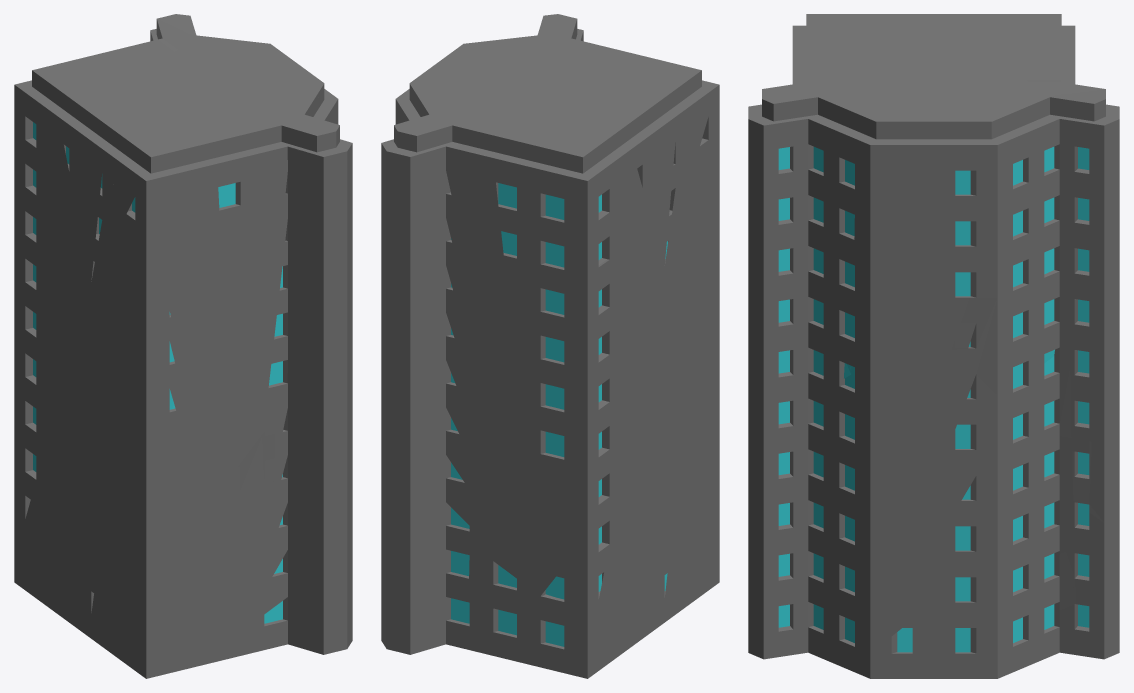
Rendered from LLShatteredCity7.fbx.
3 renders of one model, left to right at view 1: azimuth 30°, elevation 25°; view 2: azimuth 150°, elevation 25°; view 3: azimuth 270°, elevation 25°, orthographic. The views are drawn at different scales.
Visible parts, largest first — view 1: Cube.007, Cube.007_cell.057, Cube.007_cell.051, Cube.007_cell.054, Cube.007_cell.001, Cube.007_cell.039, Cube.007_cell.009, Cube.007_cell.031, Cube.007_cell.025, Cube.007_cell.058, Cube.007_cell.050, Cube.007_cell.087 (+24 smaller); view 2: Cube.007, Cube.007_cell.054, Cube.007_cell.039, Cube.007_cell.051, Cube.007_cell.016, Cube.007_cell.085, Cube.007_cell.058, Cube.007_cell.009, Cube.007_cell.013, Cube.007_cell.041, Cube.007_cell.022, Cube.007_cell.029 (+4 smaller); view 3: Cube.007, Cube.007_cell.082, Cube.007_cell.027, Cube.007_cell.084, Cube.007_cell.061, Cube.007_cell.036, Cube.007_cell.026, Cube.007_cell.099, Cube.007_cell.009, Cube.007_cell.019, Cube.007_cell.046, Cube.007_cell.089 (+27 smaller).
Boxes of the visible parts, box(x1,y1,x2,y2) form: Cube.007: box(14, 19, 352, 668); Cube.007_cell.057: box(198, 554, 347, 665); Cube.007_cell.051: box(88, 539, 191, 678); Cube.007_cell.054: box(64, 102, 121, 265); Cube.007_cell.001: box(147, 533, 252, 667); Cube.007_cell.039: box(14, 84, 97, 209); Cube.007_cell.009: box(20, 39, 182, 95); Cube.007_cell.031: box(205, 135, 271, 248); Cube.007_cell.025: box(246, 141, 352, 224); Cube.007_cell.058: box(100, 249, 200, 349); Cube.007_cell.050: box(205, 488, 281, 573); Cube.007_cell.087: box(146, 417, 264, 494); Cube.007: box(381, 14, 719, 678); Cube.007_cell.054: box(626, 98, 695, 257); Cube.007_cell.039: box(540, 120, 636, 274); Cube.007_cell.051: box(661, 481, 719, 614); Cube.007_cell.016: box(381, 113, 473, 217); Cube.007_cell.085: box(613, 489, 672, 576); Cube.007_cell.058: box(667, 187, 719, 285); Cube.007_cell.009: box(456, 91, 601, 221); Cube.007_cell.013: box(410, 301, 454, 378); Cube.007_cell.041: box(410, 218, 447, 301); Cube.007_cell.022: box(530, 552, 603, 618); Cube.007_cell.029: box(410, 541, 440, 607); Cube.007: box(748, 14, 1119, 678); Cube.007_cell.082: box(837, 528, 1007, 645); Cube.007_cell.027: box(901, 402, 996, 546); Cube.007_cell.084: box(748, 461, 847, 588); Cube.007_cell.061: box(837, 591, 1010, 678); Cube.007_cell.036: box(905, 63, 1046, 193); Cube.007_cell.026: box(882, 348, 996, 466); Cube.007_cell.099: box(861, 247, 968, 349); Cube.007_cell.009: box(932, 14, 1075, 83); Cube.007_cell.019: box(748, 252, 825, 341); Cube.007_cell.046: box(748, 77, 898, 155); Cube.007_cell.089: box(816, 453, 914, 570).
Size of the model in its own units: 96 by 207 by 126.
